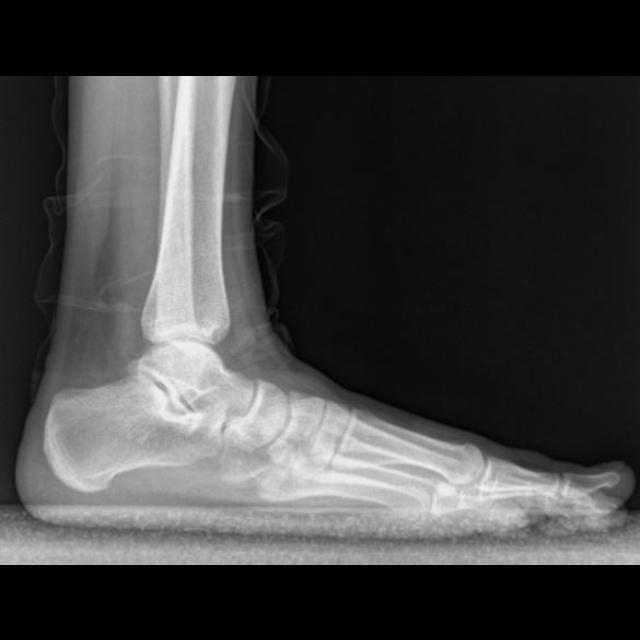a: (44, 364, 230, 491)
b: (224, 378, 289, 452)
c: (332, 406, 487, 509)
